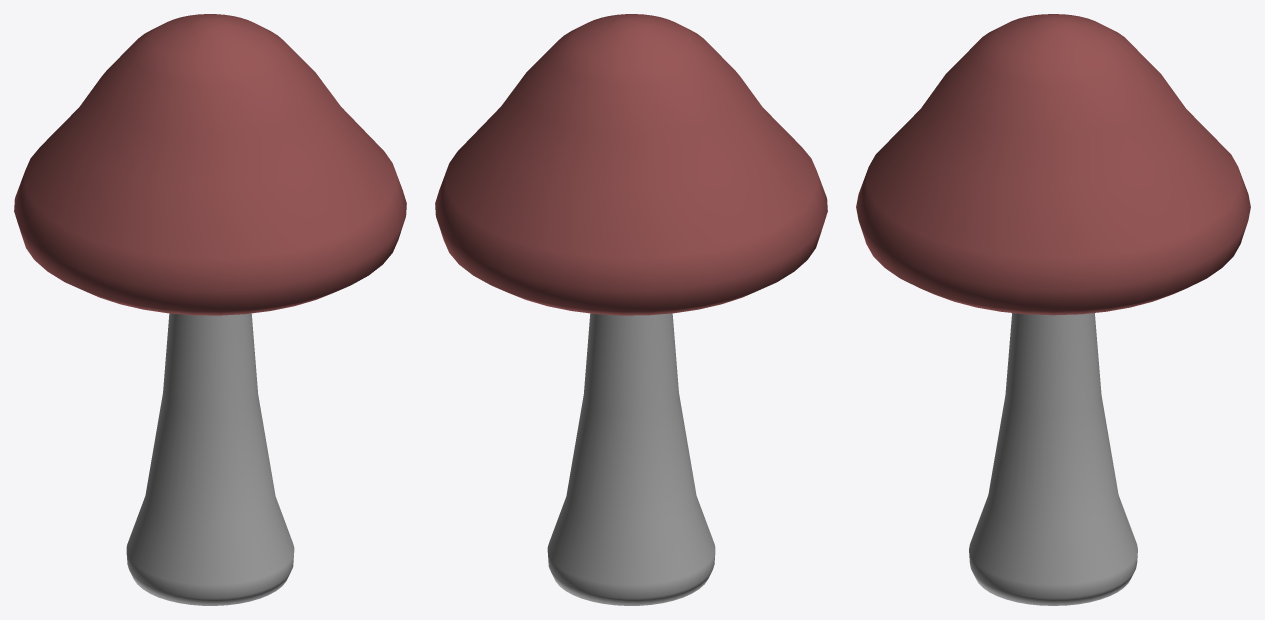
The model's file is Hongo3_Mod.fbx.
3 renders of one model, left to right at view 1: azimuth 30°, elevation 25°; view 2: azimuth 150°, elevation 25°; view 3: azimuth 270°, elevation 25°, orthographic.
Visible parts, largest first — view 1: Hongo3_Mod; view 2: Hongo3_Mod; view 3: Hongo3_Mod.
Part boxes in pixels (x1,y1,x2,y2): Hongo3_Mod: (14, 14, 406, 605); Hongo3_Mod: (435, 14, 827, 605); Hongo3_Mod: (856, 14, 1250, 605).
Bounding box in the file's own units: 526 × 815 × 529.
